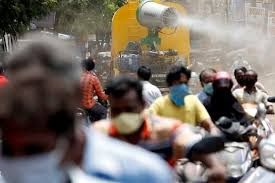mask: (108, 93, 145, 135), (174, 71, 192, 98), (214, 76, 231, 98), (202, 71, 216, 94), (243, 72, 257, 89), (235, 68, 248, 85)
